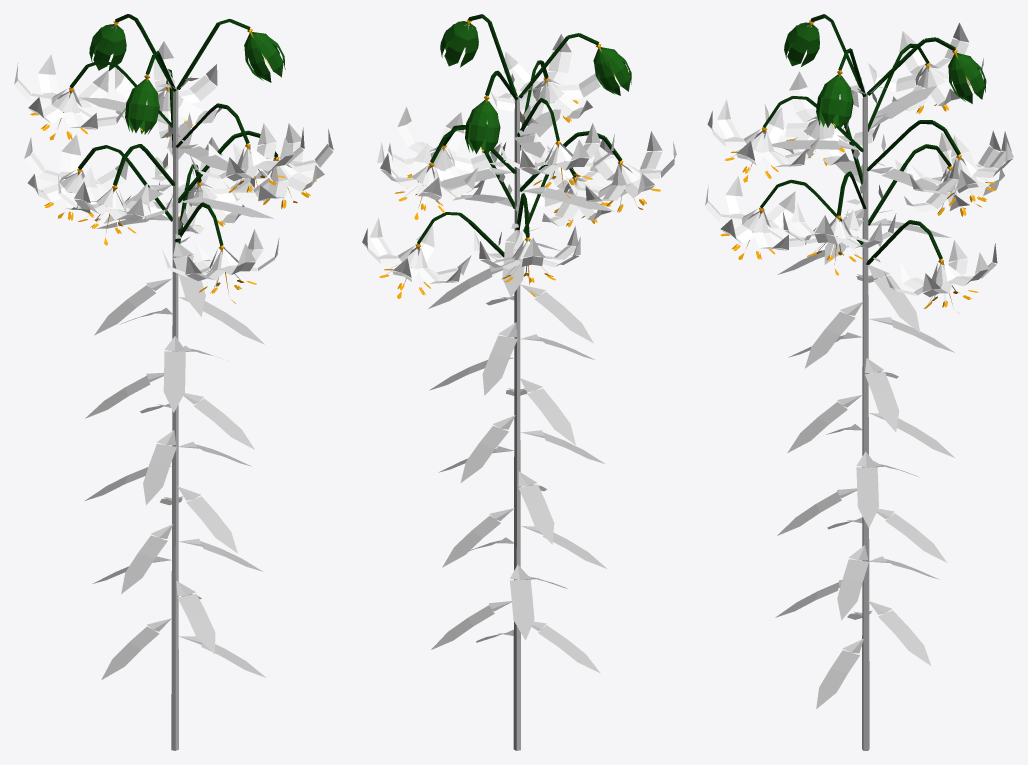
3 views of the same model, side by side, from view 1: azimuth 30°, elevation 25°; view 2: azimuth 150°, elevation 25°; view 3: azimuth 270°, elevation 25° (orthographic).
Parts seen in each view (by area): view 1: leaves4b, stem, petals9, petals7, leaves4c, stems2, petals2, petals5, leaves4a, petals3, petals4, petals1 (+7 smaller); view 2: leaves4b, petals7, stem, petals9, leaves4c, petals2, stems2, petals3, leaves4a, petals5, petals4, petals1 (+7 smaller); view 3: leaves4b, stem, stems2, petals7, leaves4c, petals9, petals3, petals2, petals5, leaves4a, petals4, petals1 (+7 smaller).
Part boxes in pixels (x1,y1,x2,y2): leaves4b: (100,98,251,669); stem: (171,88,178,750); petals9: (29,74,313,280); petals7: (14,59,332,277); leaves4c: (79,97,273,679); stems2: (69,60,277,245); petals2: (29,79,317,275); petals5: (27,54,324,274); leaves4a: (146,116,203,644); petals3: (14,41,333,268); petals4: (41,89,312,279); petals1: (51,87,296,268); leaves4b: (444,114,592,661); petals7: (363,51,674,283); stem: (513,96,520,750); petals9: (370,64,662,281); leaves4c: (428,109,614,673); petals2: (378,71,661,282); stems2: (417,60,622,257); petals3: (362,34,676,281); leaves4a: (488,133,546,635); petals5: (370,51,662,277); petals4: (381,80,653,281); petals1: (398,78,640,268); leaves4b: (789,92,936,692); stem: (862,93,869,750); stems2: (760,43,960,264); petals7: (705,39,1012,295); leaves4c: (772,86,954,709); petals9: (717,48,1005,296); petals3: (705,22,1013,289); petals2: (720,58,997,295); petals5: (717,31,1011,292); leaves4a: (837,112,894,653); petals4: (728,64,997,293); petals1: (742,63,979,282).
Size of the model in its own units: 14.85 by 38.49 by 14.94.
